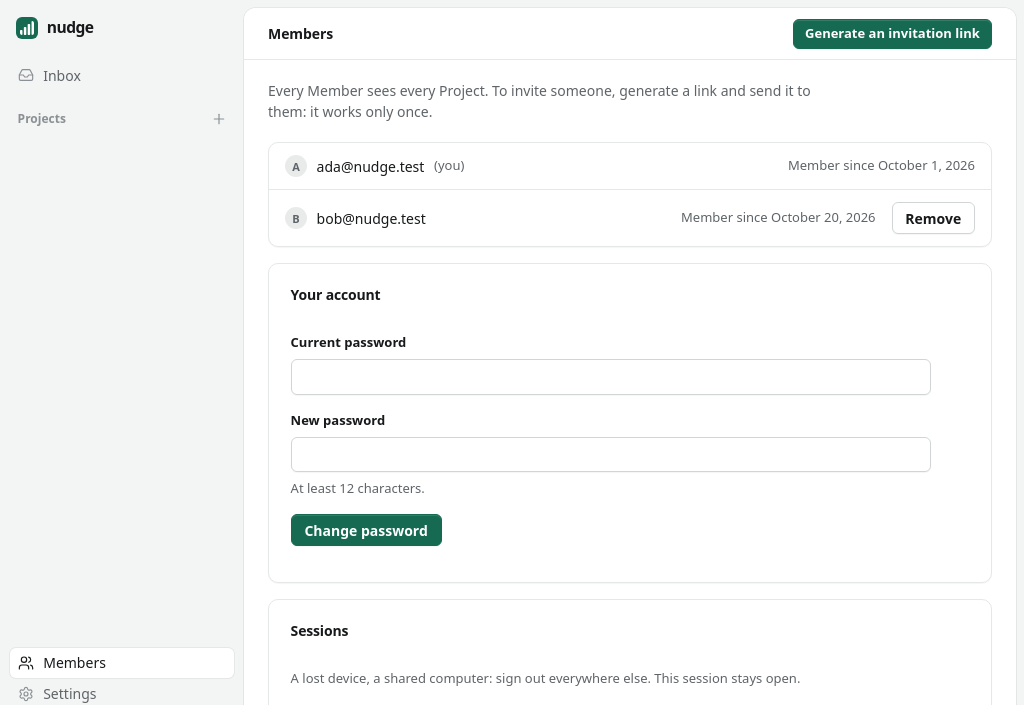
Scenario: Members: removal › says why a removal is refused
Click the button with aria-label "Remove bob@nudge.test": click(933, 218) 892,202 -> 975,234
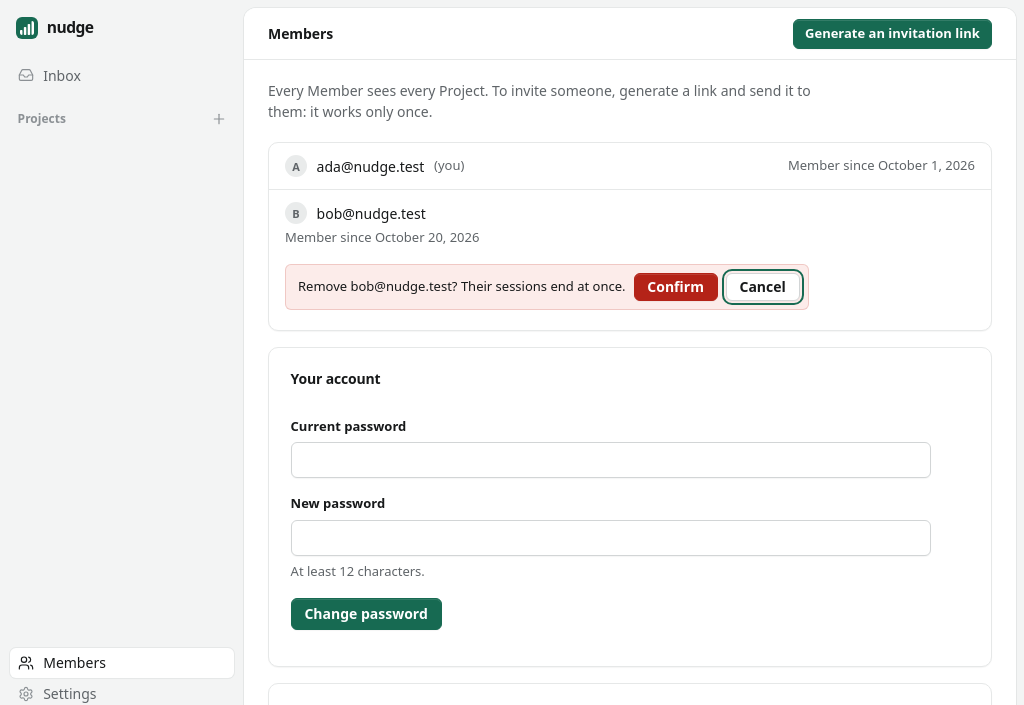
Click the button "Confirm": click(676, 286) 634,272 -> 718,300
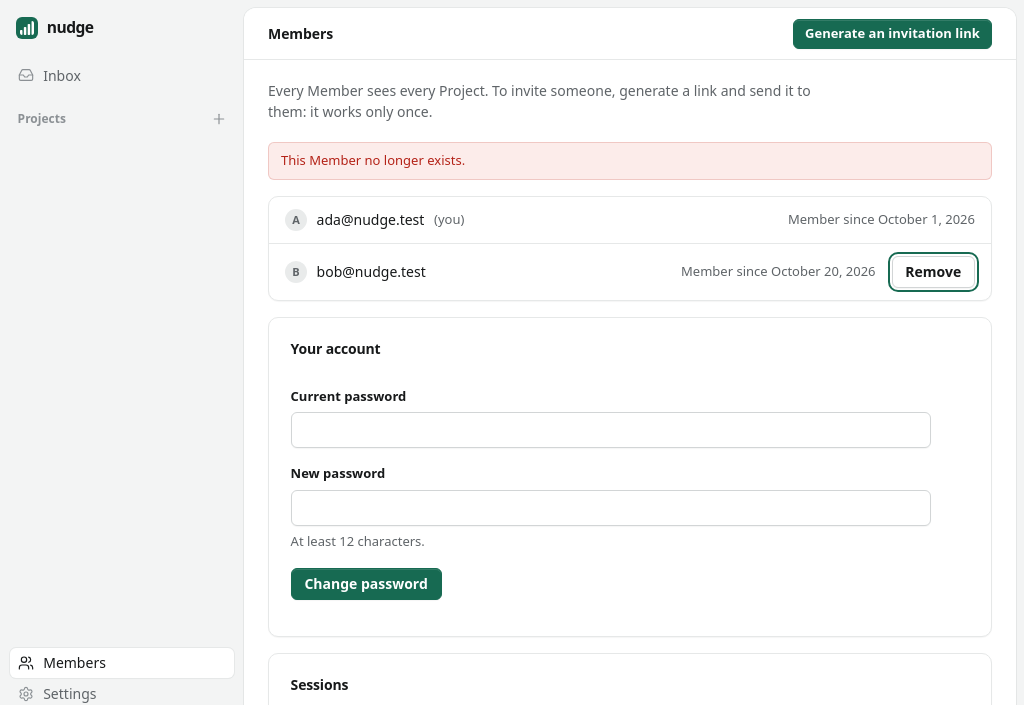
Now the message reads "This Member no longer exists.", box 281,151 -> 465,169
